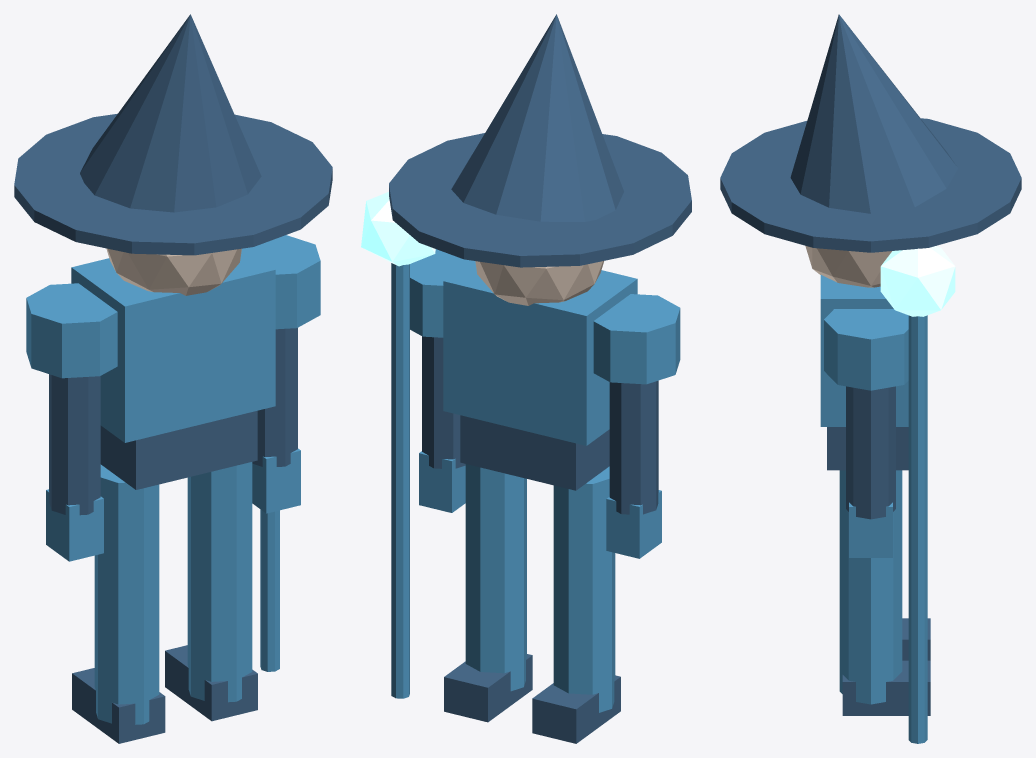
File: hero_arthur.glb
3 renders of one model, left to right at view 1: azimuth 30°, elevation 25°; view 2: azimuth 150°, elevation 25°; view 3: azimuth 270°, elevation 25°, orthographic. The views are drawn at different scales.
Parts seen in each view (by area): view 1: Cube, Cylinder.006, Cone, Cylinder.004, Cylinder.005, Cube.001, Cylinder, Cylinder.002, Icosphere, Cylinder.001, Cylinder.003, Cylinder.007 (+4 smaller); view 2: Cube, Cylinder.006, Cone, Cylinder.004, Cylinder.005, Cylinder.007, Cube.001, Cylinder, Cylinder.002, Icosphere, Cylinder.003, Cube.004 (+5 smaller); view 3: Cylinder.006, Cone, Cylinder.005, Cylinder.007, Cylinder.001, Cylinder.003, Icosphere.001, Cube, Icosphere, Cube.005, Cube.003, Cube.001.
Boxes of the visible parts, <box> form: Cube: <box>71,248,275,442</box>; Cylinder.006: <box>14,113,332,255</box>; Cone: <box>80,14,261,212</box>; Cylinder.004: <box>94,464,159,724</box>; Cylinder.005: <box>187,462,252,702</box>; Cube.001: <box>100,410,257,489</box>; Cylinder: <box>26,283,117,378</box>; Cylinder.002: <box>49,374,100,515</box>; Icosphere: <box>106,248,241,295</box>; Cylinder.001: <box>246,235,320,329</box>; Cylinder.003: <box>252,328,297,466</box>; Cylinder.007: <box>260,509,279,671</box>; Cube: <box>443,260,637,445</box>; Cylinder.006: <box>389,133,691,267</box>; Cone: <box>451,14,623,221</box>; Cylinder.004: <box>553,466,615,712</box>; Cylinder.005: <box>465,464,526,691</box>; Cylinder.007: <box>391,263,409,698</box>; Cube.001: <box>460,415,609,490</box>; Cylinder: <box>593,294,680,384</box>; Cylinder.002: <box>609,380,658,514</box>; Icosphere: <box>475,261,603,305</box>; Cylinder.003: <box>422,336,465,468</box>; Cube.004: <box>532,675,620,743</box>; Cylinder.006: <box>720,118,1021,252</box>; Cone: <box>790,14,957,213</box>; Cylinder.005: <box>839,470,902,704</box>; Cylinder.007: <box>908,315,927,743</box>; Cylinder.001: <box>824,309,908,390</box>; Cylinder.003: <box>846,386,895,519</box>; Icosphere.001: <box>880,246,955,316</box>; Cube: <box>820,275,908,426</box>; Icosphere: <box>805,246,891,287</box>; Cube.005: <box>842,660,930,715</box>; Cube.003: <box>849,502,892,557</box>; Cube.001: <box>827,427,908,470</box>.
Bounding box in the file's own units: 1.04 × 2.36 × 0.96.
